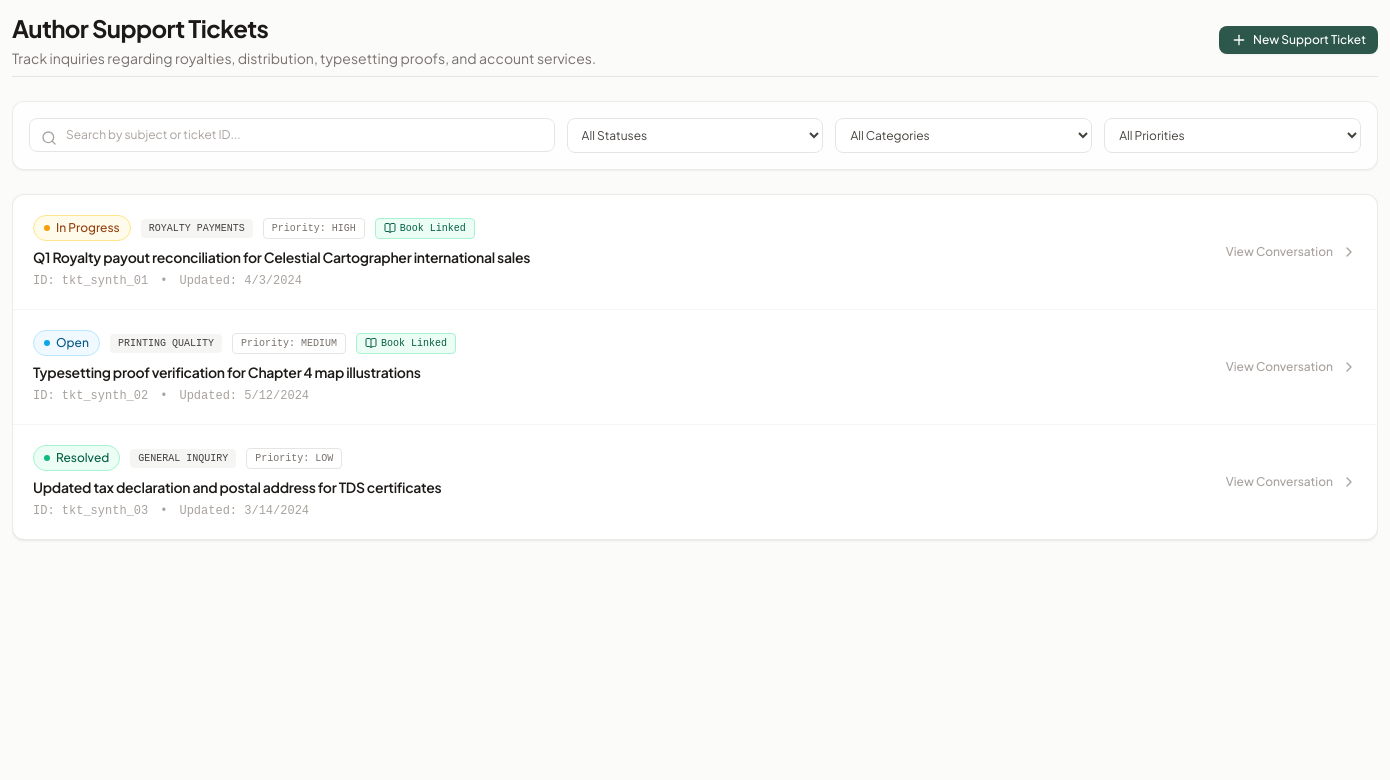
Test: Milestone 2 — Author Support Ticket Flows › filters tickets by search query in the list
Check: the heading "Q1 Royalty payout reconciliation" is shown, box [33,248,530,266]
Type "Royalty" into the field with placeholder "Search by subject or ticket ID..." at (292, 135), box [29,118,555,152]
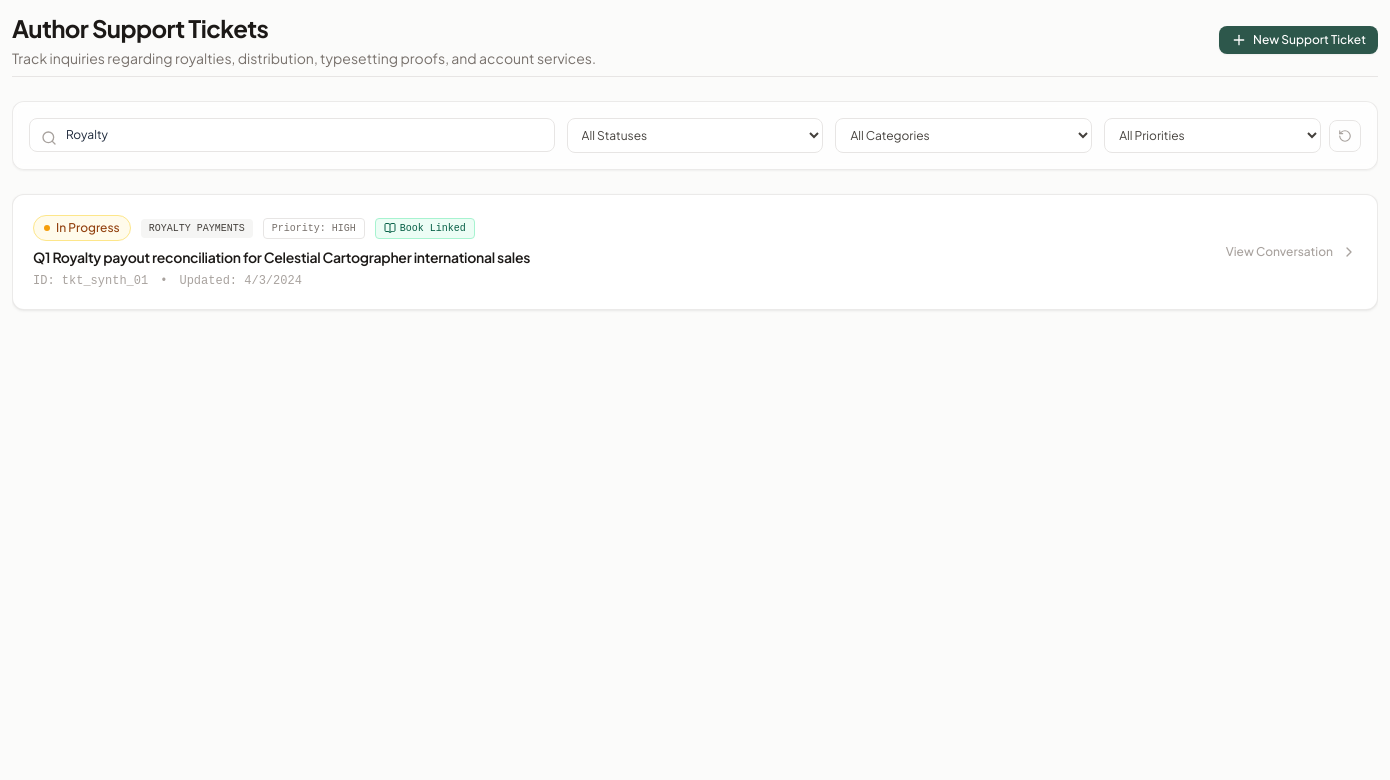
Check: the heading "Q1 Royalty payout reconciliation" is shown, box [33,248,530,266]
Check: the link "Typesetting proof verification" is gone
